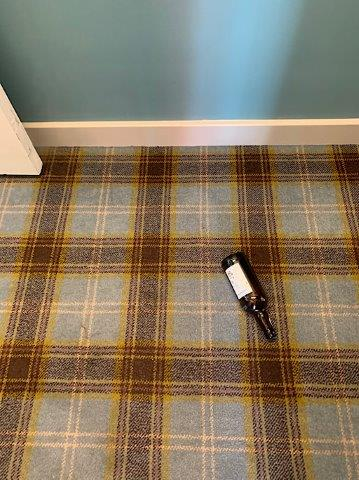botolkaca: (222, 252, 276, 339)
